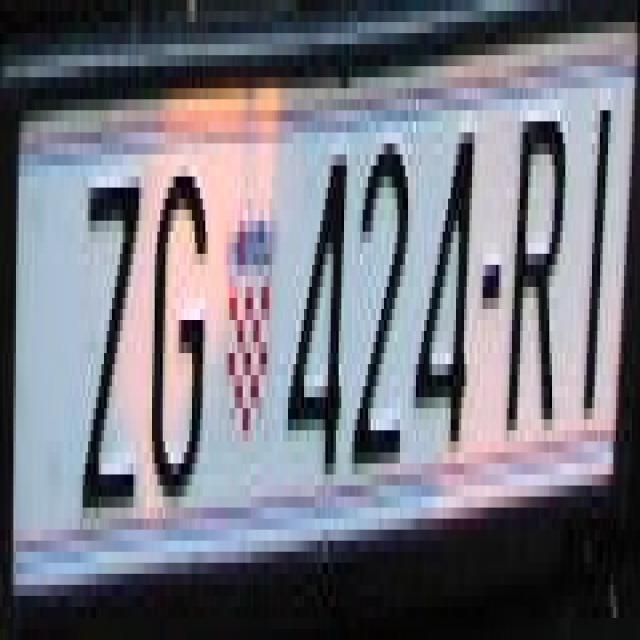2: (350, 144, 408, 464)
4: (280, 132, 350, 518), (416, 110, 478, 463)
G: (149, 166, 208, 518)
Z: (82, 166, 138, 518)
